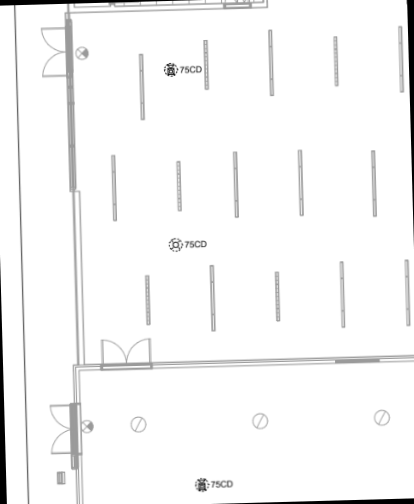double door: (95, 335, 155, 371), (46, 402, 83, 457), (38, 24, 72, 81)
window: (331, 350, 384, 370)
